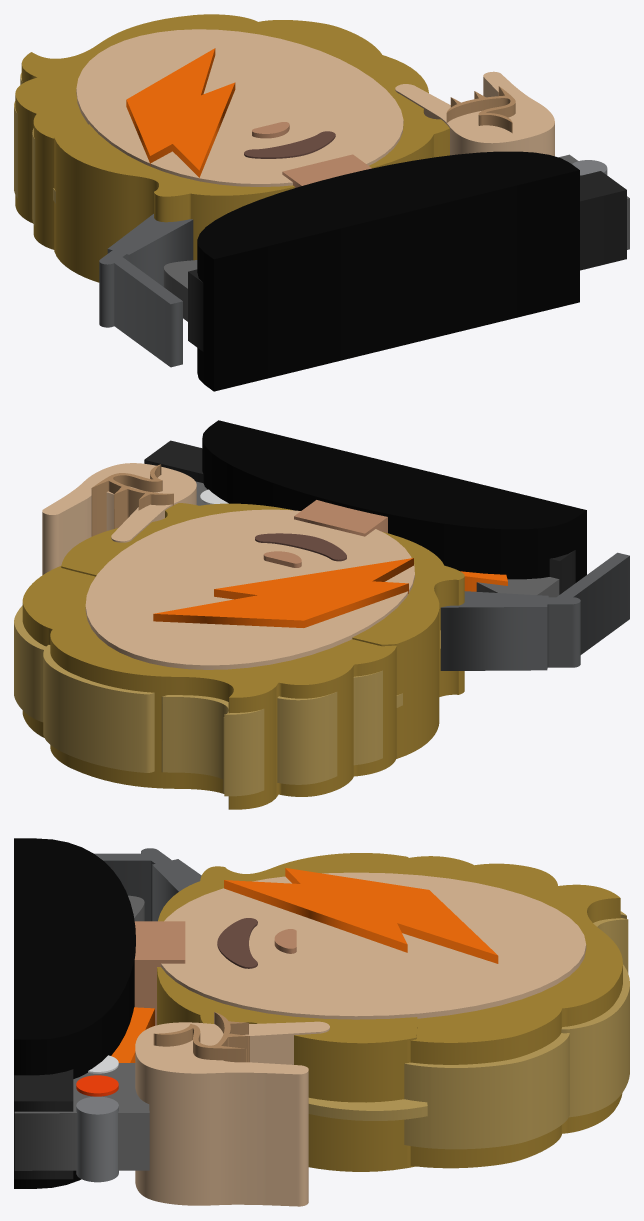
The model's file is emoji_u1f9d1_1f3fc_200d_1f3a4.glb.
3 views of the same model, one above another, from view 1: azimuth 30°, elevation 25°; view 2: azimuth 150°, elevation 25°; view 3: azimuth 270°, elevation 25° (orthographic). The views are drawn at different scales.
Parts seen in each view (by area): view 1: emoji_u1f9d1_1f3fc_200d_1f3a4; view 2: emoji_u1f9d1_1f3fc_200d_1f3a4; view 3: emoji_u1f9d1_1f3fc_200d_1f3a4.
Part boxes in pixels (x1=…): emoji_u1f9d1_1f3fc_200d_1f3a4: x1=14, y1=14, x2=629, y2=391; emoji_u1f9d1_1f3fc_200d_1f3a4: x1=14, y1=420, x2=629, y2=809; emoji_u1f9d1_1f3fc_200d_1f3a4: x1=14, y1=838, x2=629, y2=1206.
Size of the model in its own units: 0.0335 by 0.0092 by 0.033.
